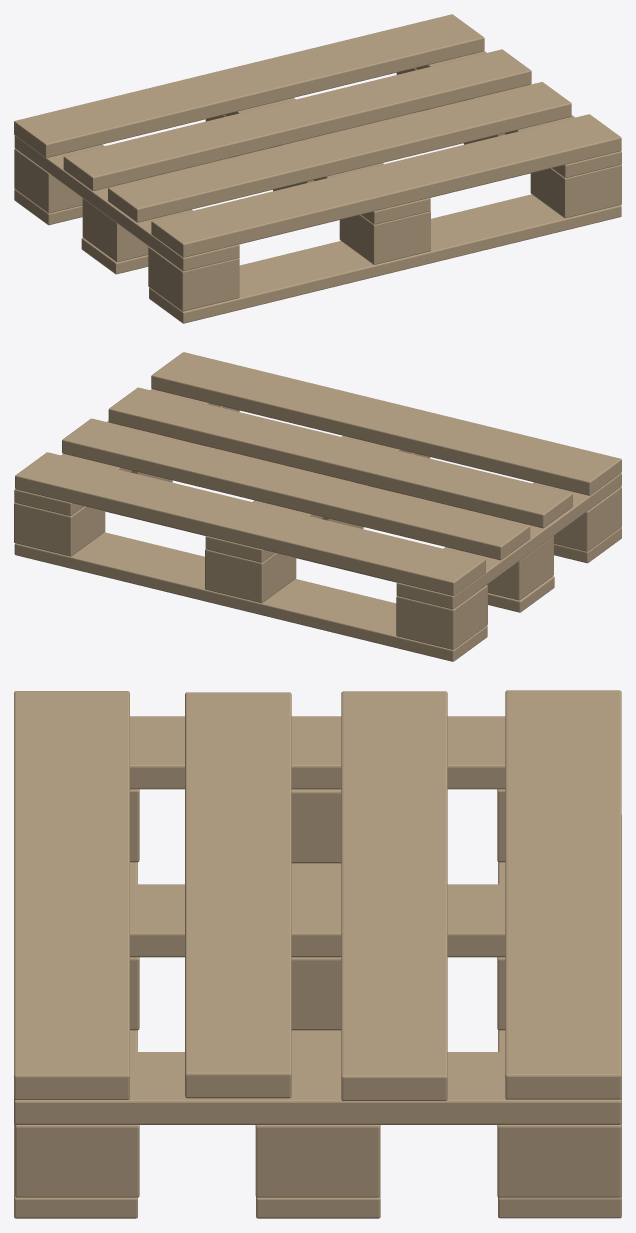
File: pallet_a01.glb
3 renders of one model, top to bottom at view 1: azimuth 30°, elevation 25°; view 2: azimuth 150°, elevation 25°; view 3: azimuth 270°, elevation 25°, orthographic. The views are drawn at different scales.
Visible parts, largest first — view 1: sm_pallet_a01_mesh_00; view 2: sm_pallet_a01_mesh_00; view 3: sm_pallet_a01_mesh_00.
Part boxes in pixels (x1,y1,x2,y2): sm_pallet_a01_mesh_00: [14, 14, 621, 323]; sm_pallet_a01_mesh_00: [14, 352, 621, 661]; sm_pallet_a01_mesh_00: [14, 690, 621, 1218].
Size of the model in its own units: 1.2 by 0.2086 by 0.8004.
